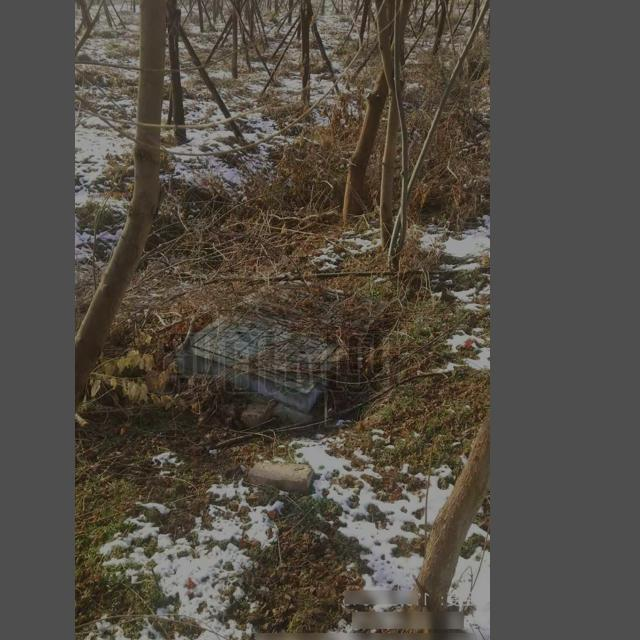circle: (173, 272, 389, 418)
